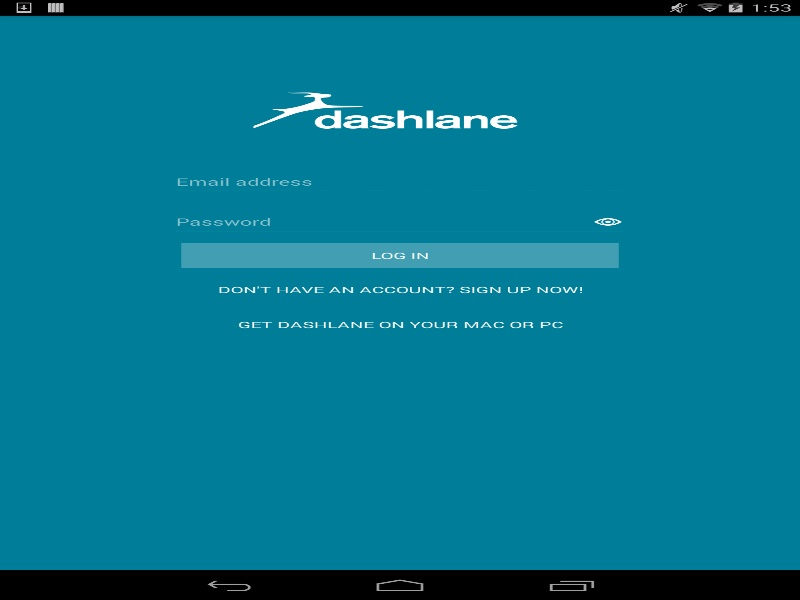Button: (181, 274, 618, 304), (181, 309, 618, 339), (181, 243, 618, 268)
Input: (176, 212, 624, 233), (176, 173, 624, 192)
